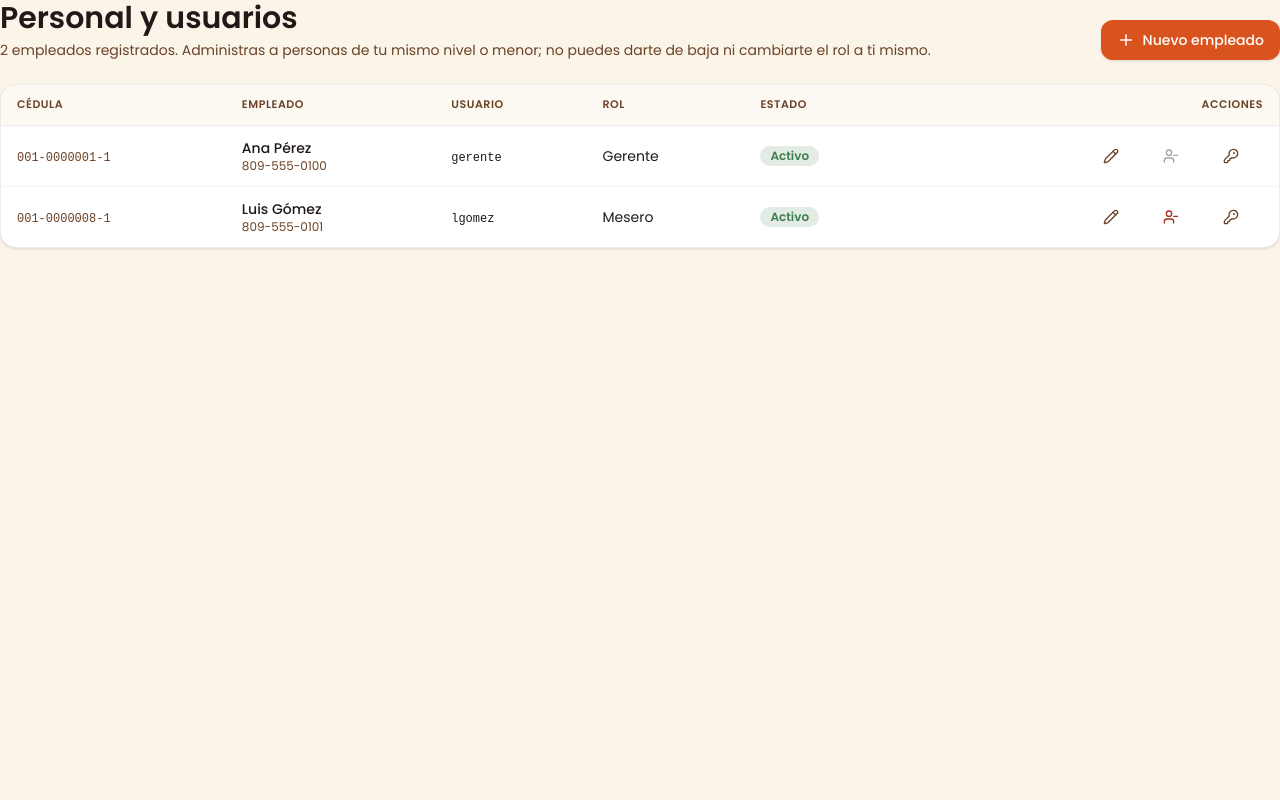
Personal › edita nombre, teléfono y rol, sin tocar la cédula
This screenshot has width=1280, height=800.
expect the text "Luis Gómez" is shown: met, box left=242, top=199, right=322, bottom=219
Click the button named "Editar a Luis Gómez" at [1115, 217], box left=1087, top=199, right=1143, bottom=235
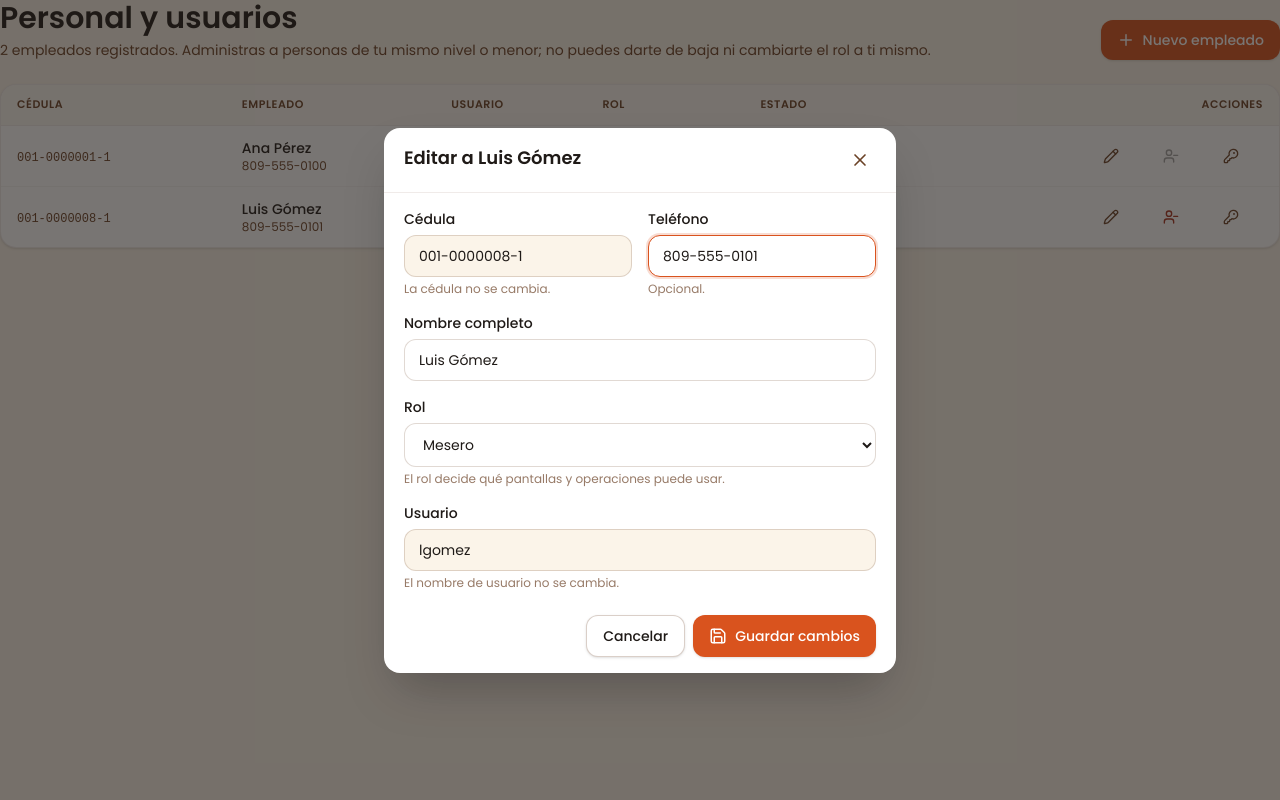
expect the dialog "Editar a Luis Gómez" is shown: met, box left=384, top=128, right=896, bottom=672
expect the field labelled "Cédula" is disabled: met, box left=404, top=234, right=632, bottom=276
Replace the text in the field labelled "Nombre completo" with "Luis Gómez Pérez" at [640, 360], box left=404, top=338, right=876, bottom=380
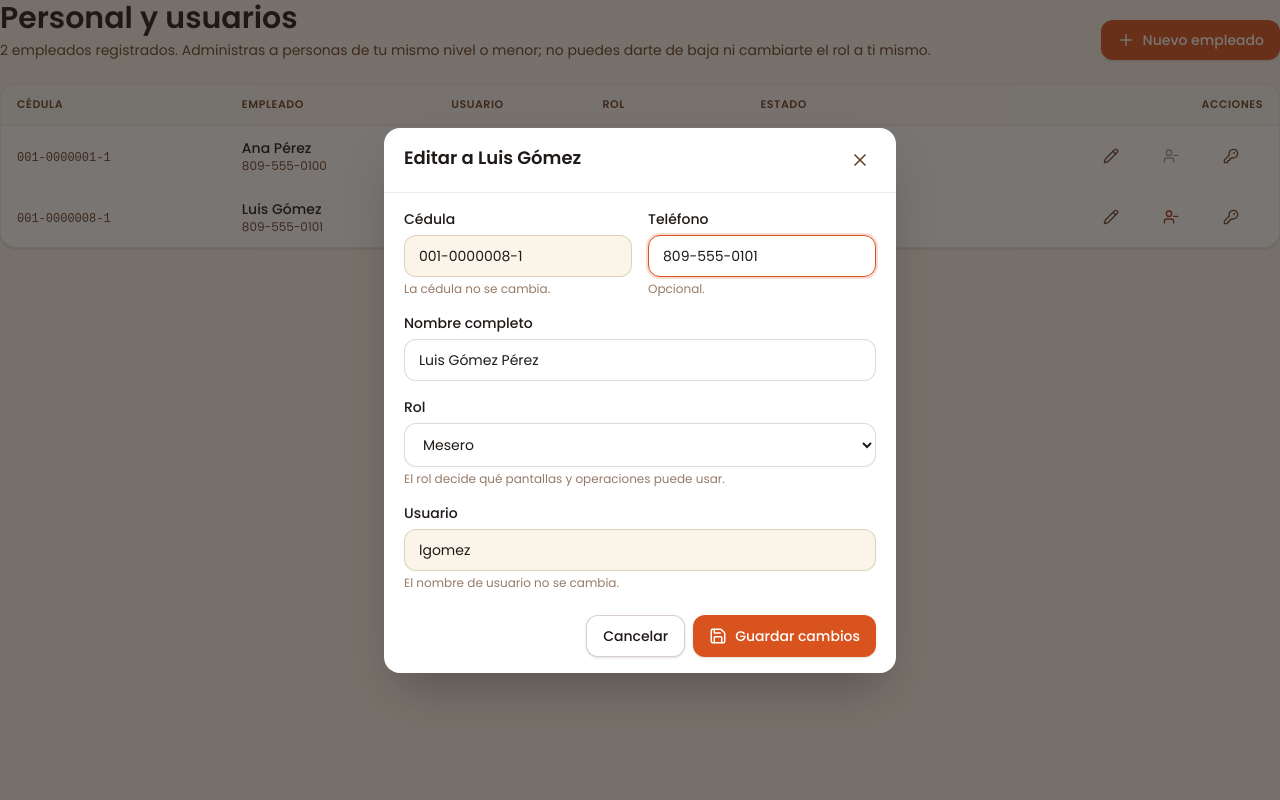
Select "Gerente" in the dropdown labelled "Rol" at [640, 444], box left=404, top=422, right=876, bottom=466
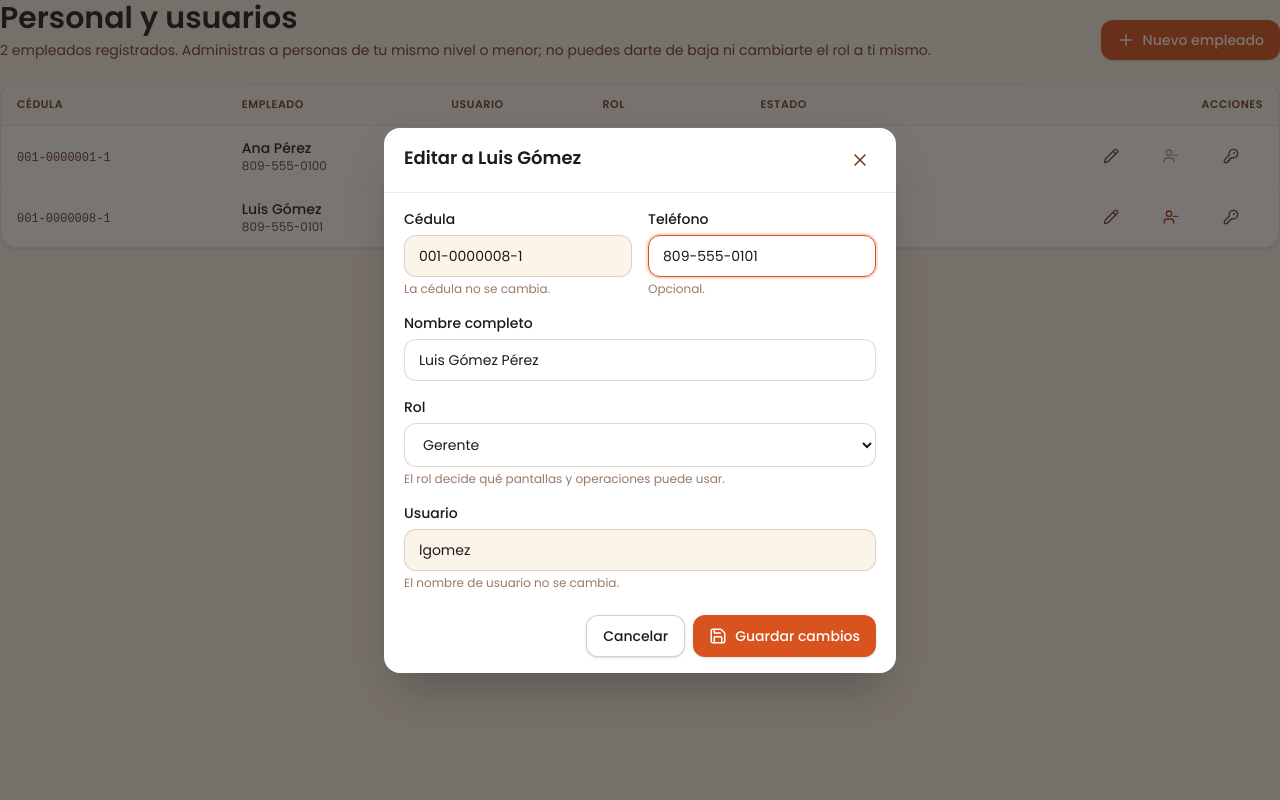
Click the button "Guardar cambios" at [785, 636], box left=693, top=614, right=876, bottom=656
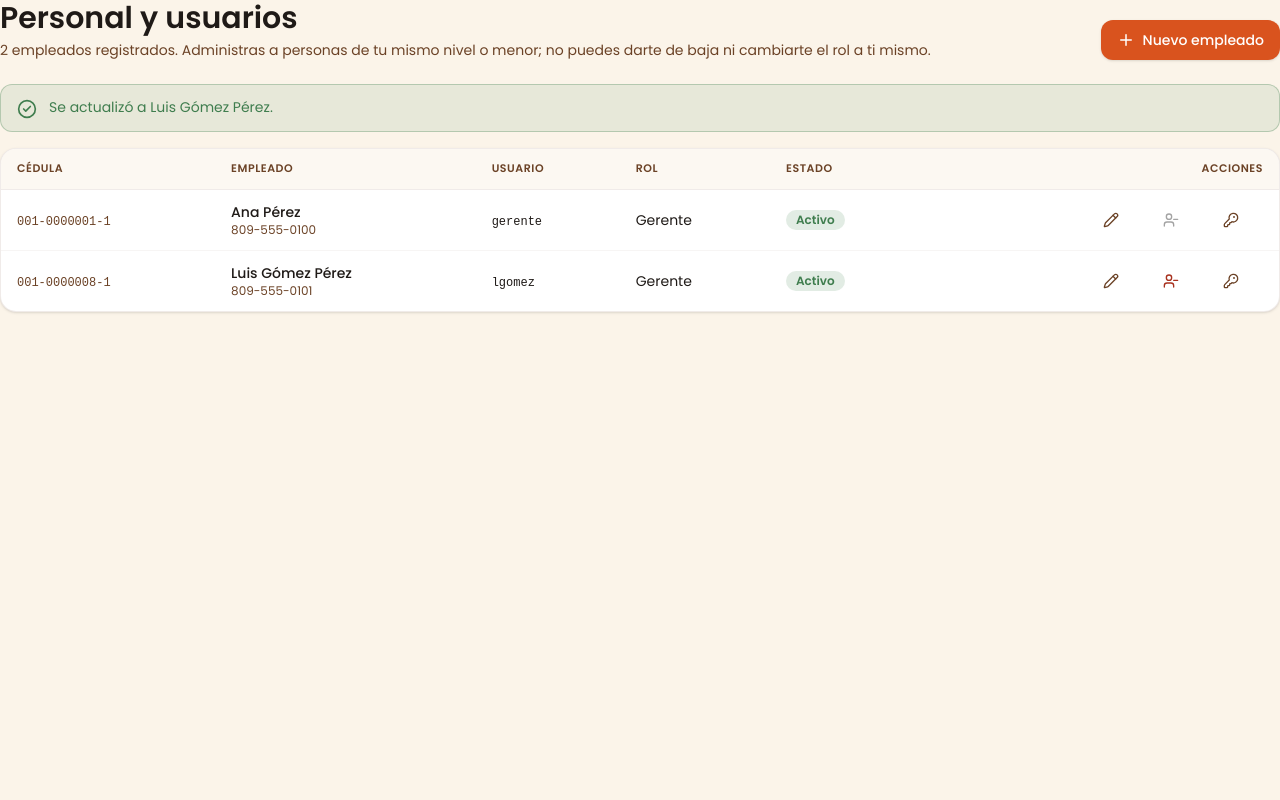
expect the text "Se actualizó a Luis Gómez Pérez." is shown: met, box left=49, top=97, right=273, bottom=117
expect the text "Luis Gómez Pérez" is shown: met, box left=231, top=263, right=352, bottom=283
